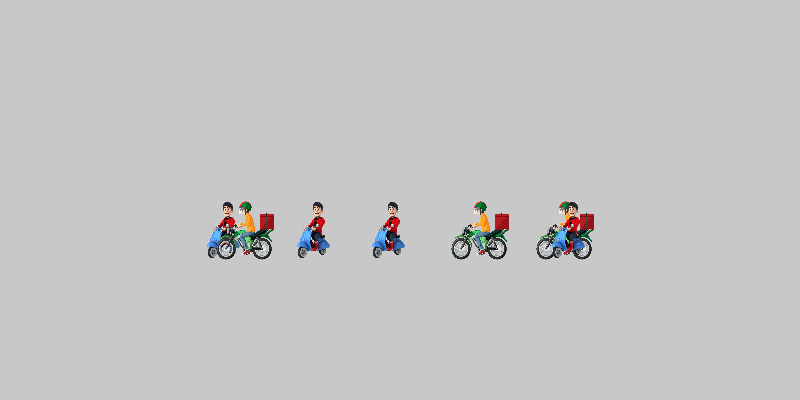helmet: (215, 200, 275, 260), (450, 200, 510, 260), (535, 200, 595, 260)
no_helmet: (195, 200, 255, 260), (285, 200, 345, 260), (360, 200, 420, 260), (540, 200, 600, 260)
